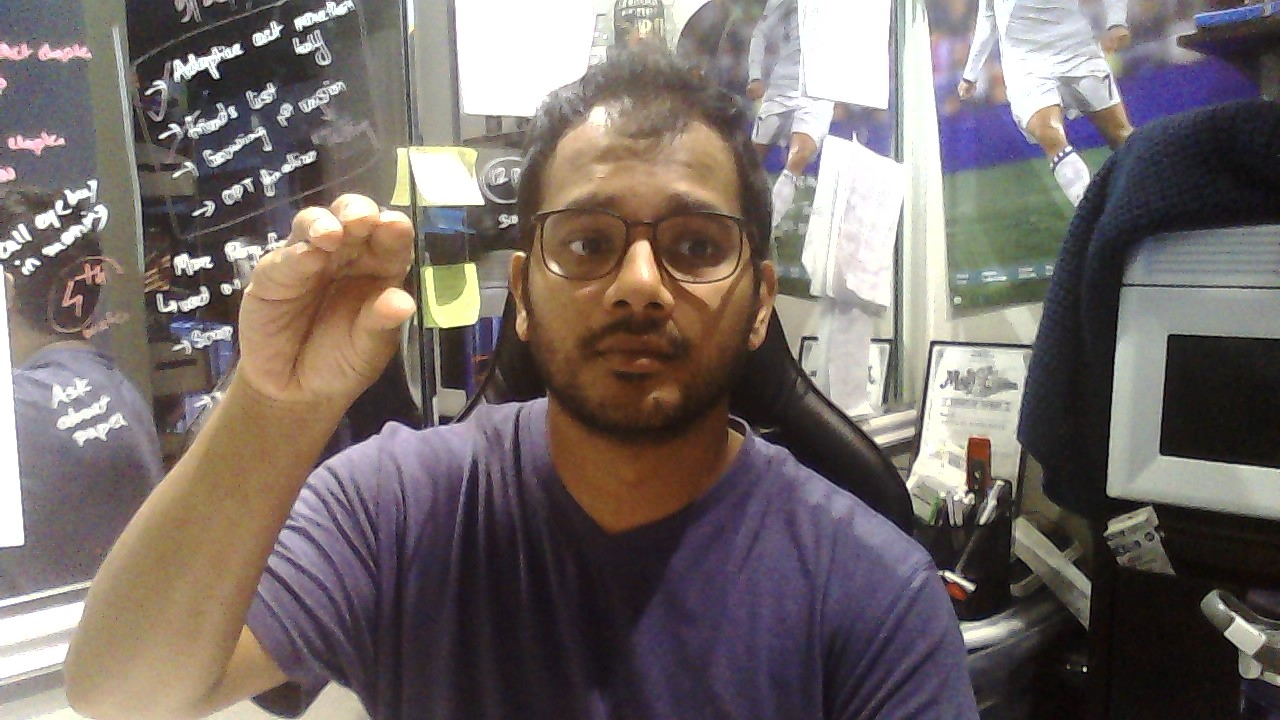No: (238, 193, 417, 402)
